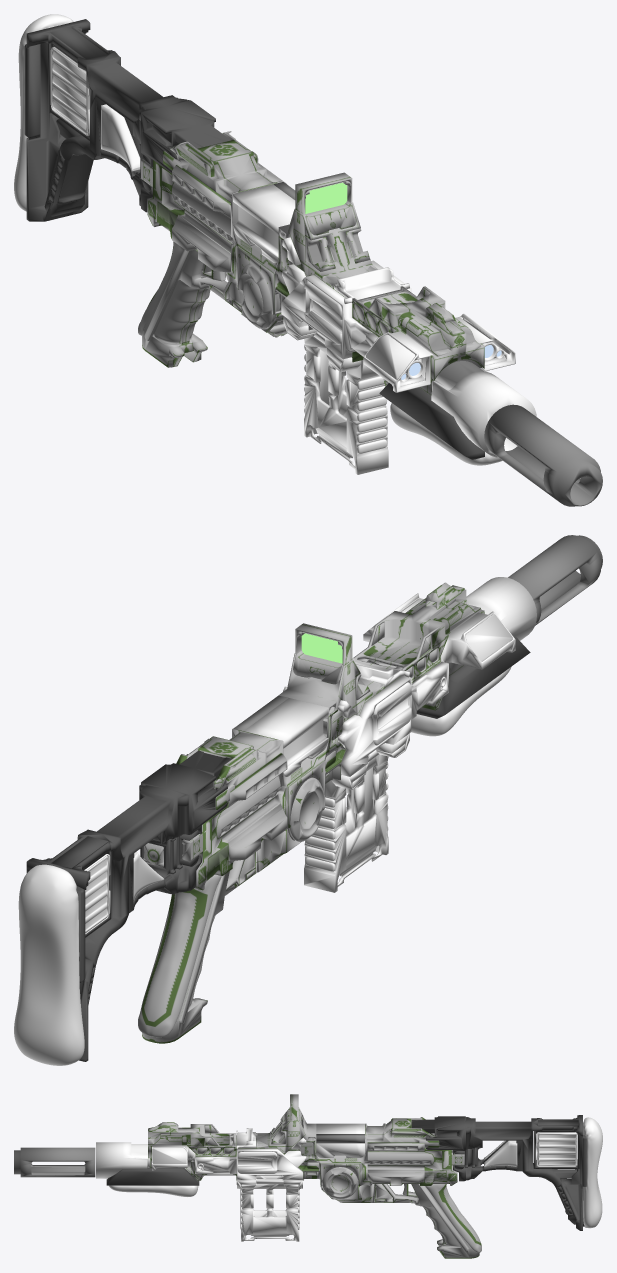
Rendered from CarouselMesh4.glb.
3 views of the same model, one above another, from view 1: azimuth 30°, elevation 25°; view 2: azimuth 150°, elevation 25°; view 3: azimuth 270°, elevation 25° (orthographic). The views are drawn at different scales.
Visible parts, largest first — view 1: 4Gun; view 2: 4Gun; view 3: 4Gun.
Boxes of the visible parts, x1,y1,x2,y2 form: 4Gun: (14,14,602,506); 4Gun: (14,535,602,1065); 4Gun: (14,1094,602,1258).
Size of the model in its own units: 0.9793 by 2.23 by 7.77.
Materials: 14 (6 with a texture image).
